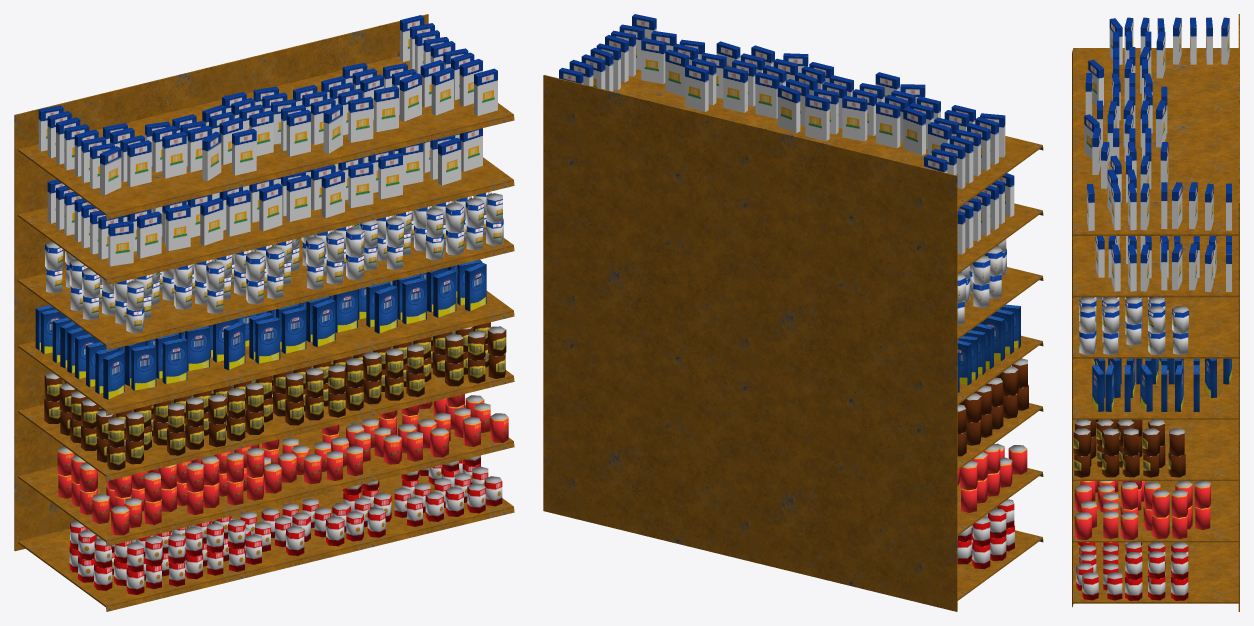
The model's file is store_shelf.gltf.
3 views of the same model, side by side, from view 1: azimuth 30°, elevation 25°; view 2: azimuth 150°, elevation 25°; view 3: azimuth 270°, elevation 25° (orthographic). The views are drawn at different scales.
Parts seen in each view (by area): view 1: Shelves; view 2: Shelves; view 3: Shelves.
Part boxes in pixels (x1,y1,x2,y2): Shelves: (14, 14, 514, 611); Shelves: (543, 14, 1043, 611); Shelves: (1072, 14, 1239, 611).
Bounding box in the file's own units: 2.47 × 2.52 × 0.9272.
Materials: 7 (6 with a texture image).
